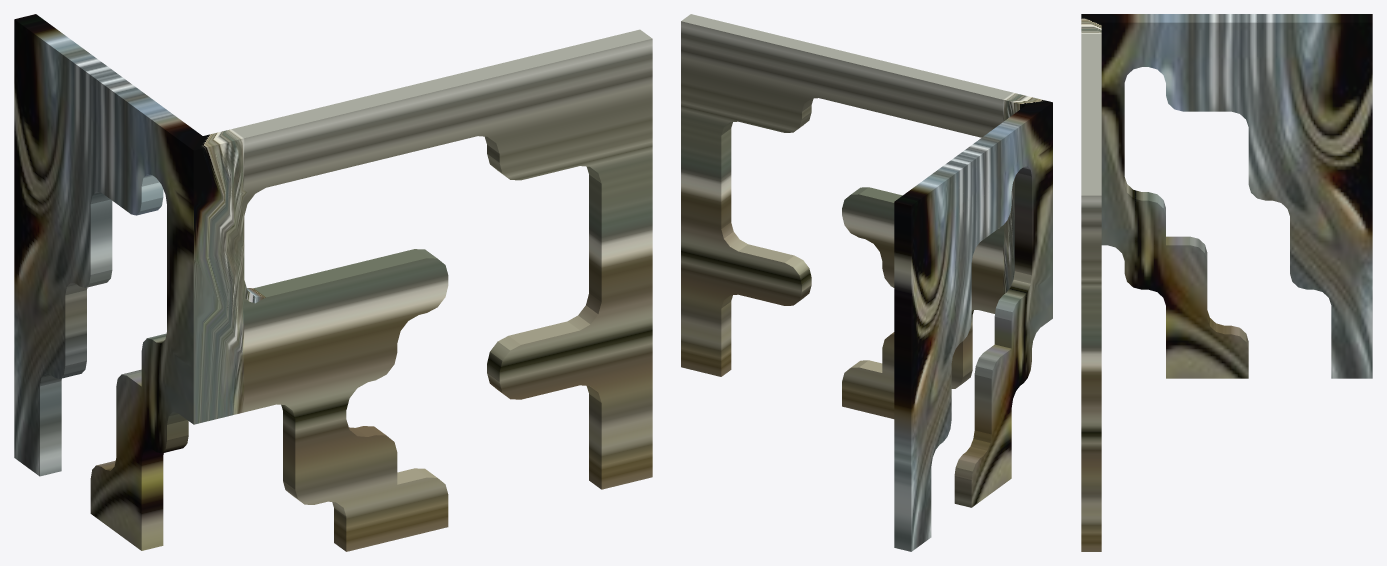
The model's file is L1 Corner wall.fbx.
3 renders of one model, left to right at view 1: azimuth 30°, elevation 25°; view 2: azimuth 150°, elevation 25°; view 3: azimuth 270°, elevation 25°, orthographic. The views are drawn at different scales.
Parts seen in each view (by area): view 1: L1 Corner walls; view 2: L1 Corner walls; view 3: L1 Corner walls.
Boxes of the visible parts, x1,y1,x2,y2 form: L1 Corner walls: (14, 14, 652, 551); L1 Corner walls: (681, 14, 1052, 551); L1 Corner walls: (1081, 14, 1372, 551).
Size of the model in its own units: 317 by 290 by 215.
Materials: 1 (1 with a texture image).
